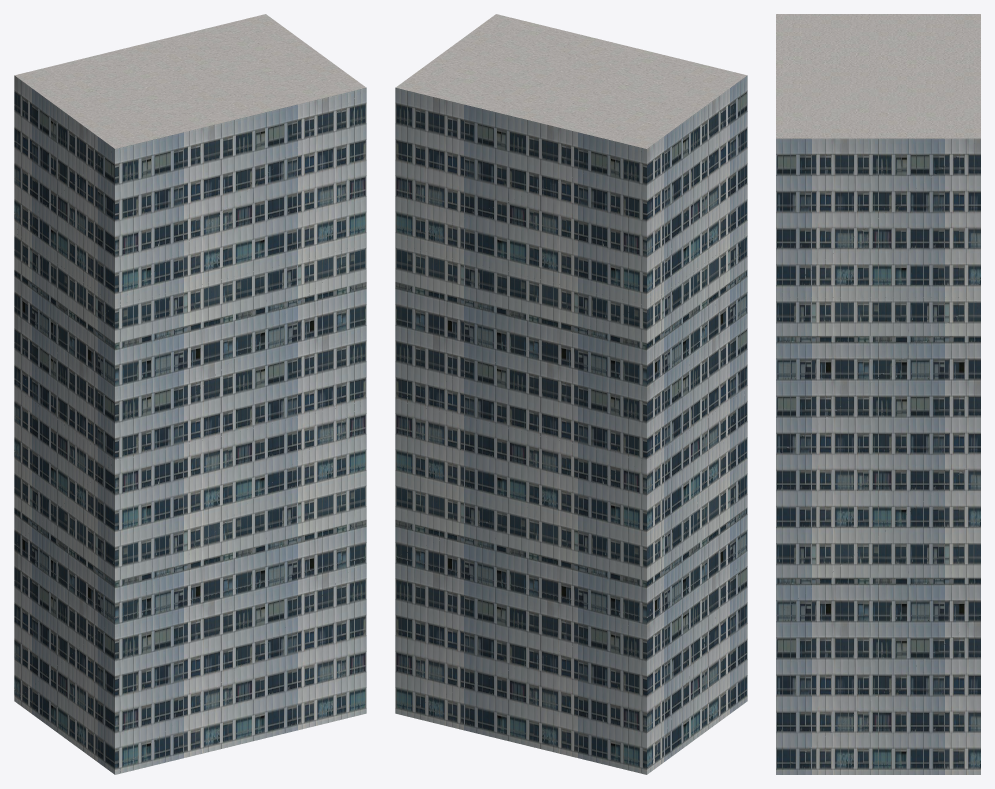
The model's file is building_023.glb.
The picture shows the model from 3 angles, left to right: view 1: azimuth 30°, elevation 25°; view 2: azimuth 150°, elevation 25°; view 3: azimuth 270°, elevation 25°; orthographic projection.
Visible parts, largest first — view 1: building_023; view 2: building_023; view 3: building_023.
Part boxes in pixels (left/top/right/bottom): building_023: left=14, top=14, right=366, bottom=774; building_023: left=395, top=14, right=747, bottom=774; building_023: left=776, top=14, right=980, bottom=774.
Bounding box in the file's own units: 1514 × 3600 × 1050.
2 materials, 2 textured.
